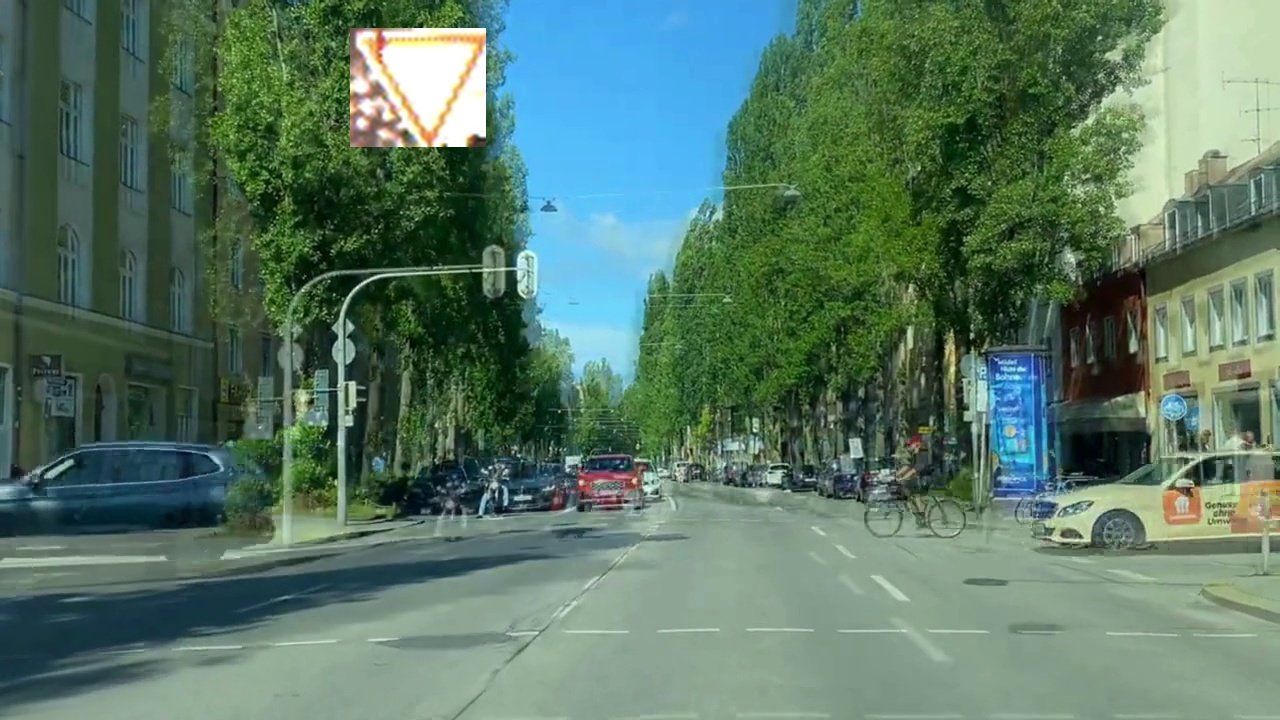Yield: (350, 28, 486, 147)
